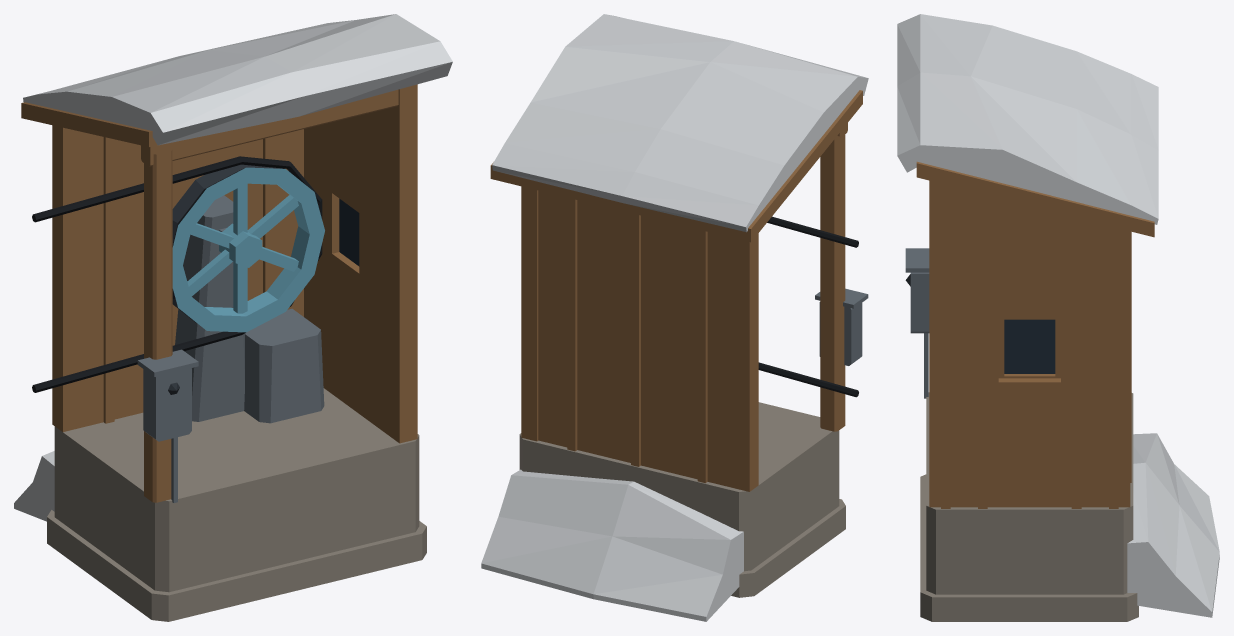
Rendered from rope-tow-run-c0fbbd.glb.
3 renders of one model, left to right at view 1: azimuth 30°, elevation 25°; view 2: azimuth 150°, elevation 25°; view 3: azimuth 270°, elevation 25°, orthographic. The views are drawn at different scales.
Visible parts, largest first — view 1: tow, bull-wheel-mesh; view 2: tow; view 3: tow.
Boxes of the visible parts, x1,y1,x2,y2 form: tow: (14, 14, 452, 621); bull-wheel-mesh: (172, 164, 324, 332); tow: (481, 14, 868, 621); tow: (897, 14, 1219, 621).
Bounding box in the file's own units: 1.94 × 2.74 × 1.65.
